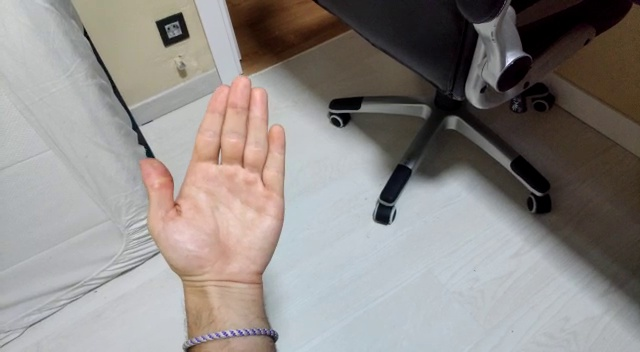Palm: (140, 74, 303, 296)
